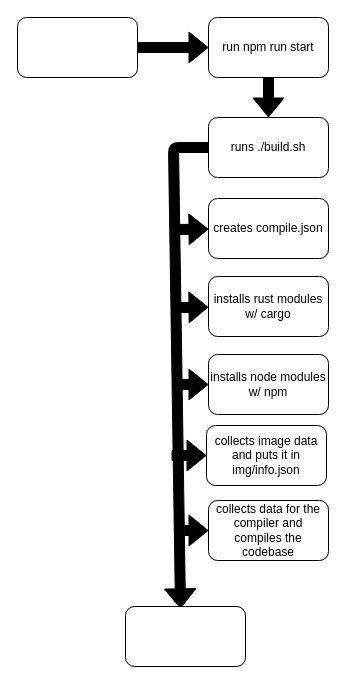
Image size: 346x684. Some labels were removed from this diagram. Each missing label, with the centre of its shape:
cloned from github: [77,47]
runs the program: [185,636]
